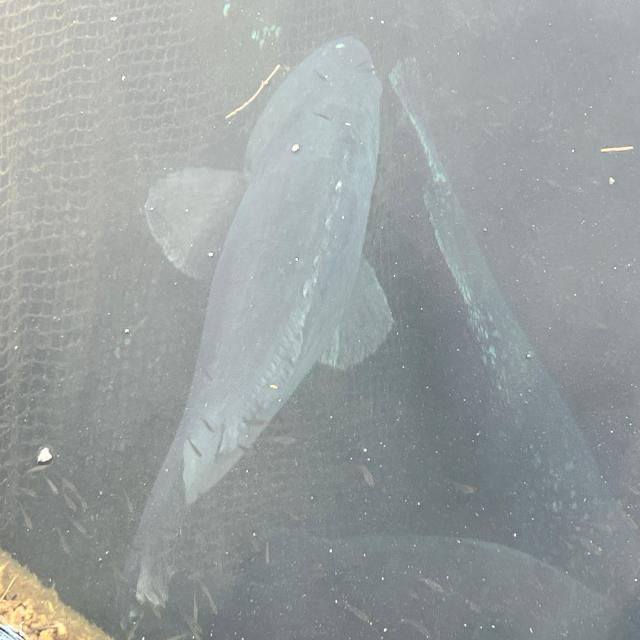ikan: (118, 34, 392, 621)
